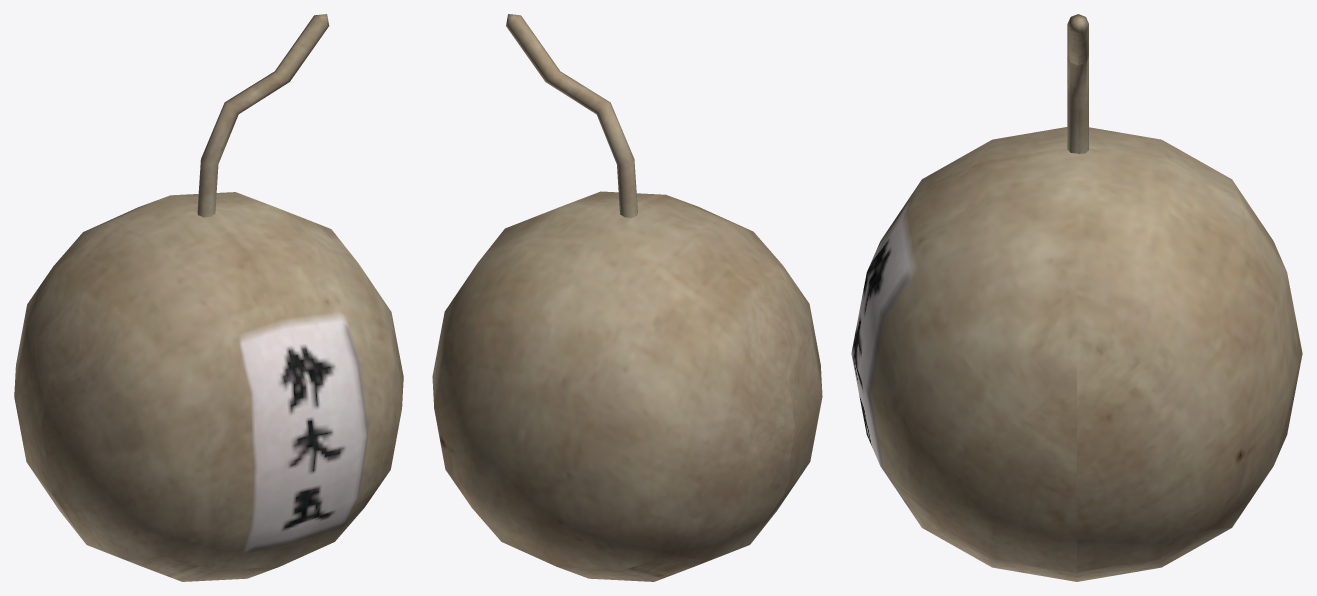
Rendered from Hanabidama.fbx.
The picture shows the model from 3 angles, left to right: view 1: azimuth 30°, elevation 25°; view 2: azimuth 150°, elevation 25°; view 3: azimuth 270°, elevation 25°; orthographic projection. The views are drawn at different scales.
Parts seen in each view (by area): view 1: pCube7; view 2: pCube7; view 3: pCube7.
Boxes of the visible parts, box(x1,y1,x2,y2) form: pCube7: box(14, 14, 403, 581); pCube7: box(432, 14, 822, 581); pCube7: box(851, 14, 1302, 581).
Bounding box in the file's own units: 57.54 × 85.13 × 57.54.
